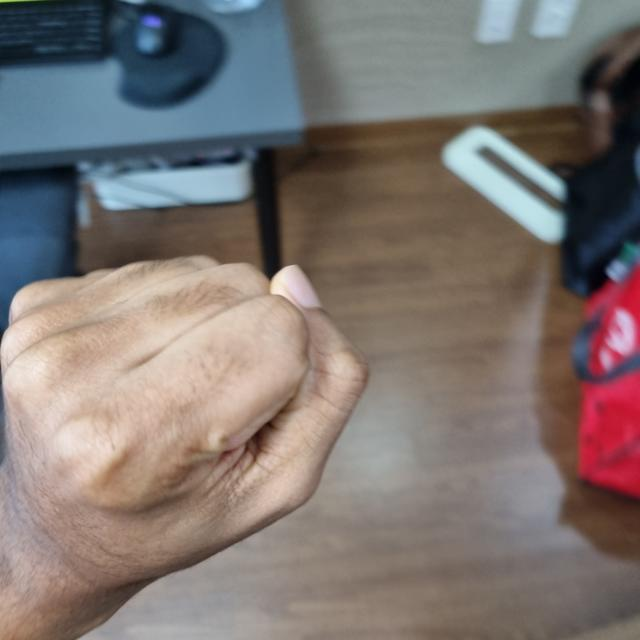Rock: (1, 260, 360, 576)
